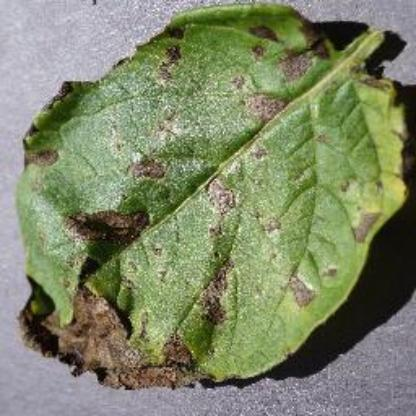Early-Blight: (17, 4, 416, 394)
